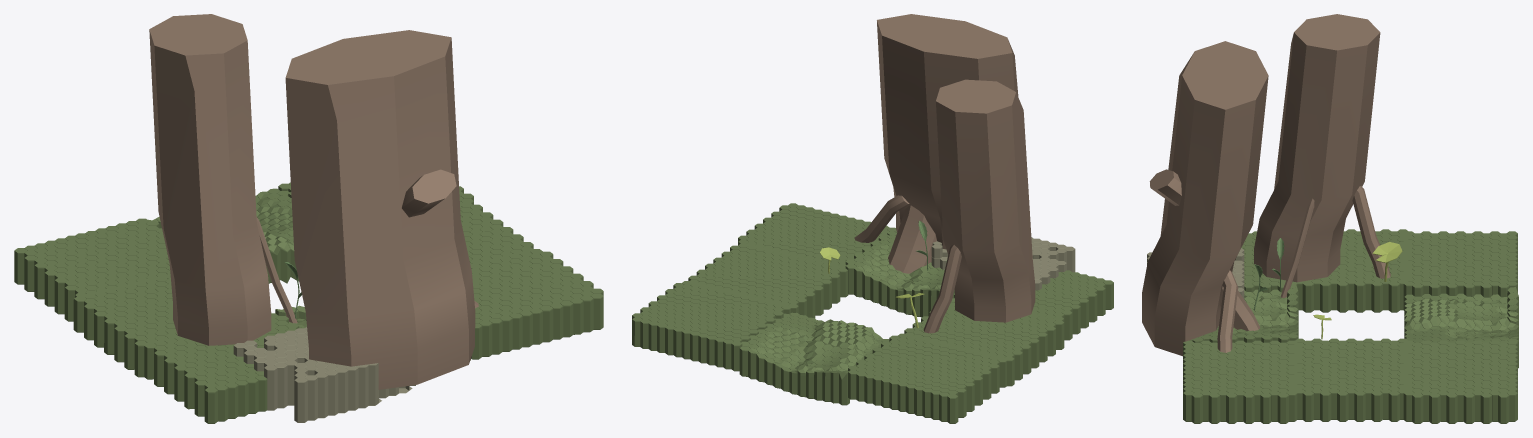
File: BGSansEau.fbx
The picture shows the model from 3 angles, left to right: view 1: azimuth 30°, elevation 25°; view 2: azimuth 150°, elevation 25°; view 3: azimuth 270°, elevation 25°; orthographic projection. The views are drawn at different scales.
Visible parts, largest first — view 1: BG_decor01; view 2: BG_decor01; view 3: BG_decor01.
Part boxes in pixels (x1,y1,x2,y2): BG_decor01: [14, 14, 603, 423]; BG_decor01: [632, 14, 1113, 423]; BG_decor01: [1142, 14, 1518, 423].
Bounding box in the file's own units: 69.55 × 52.8 × 65.88.
